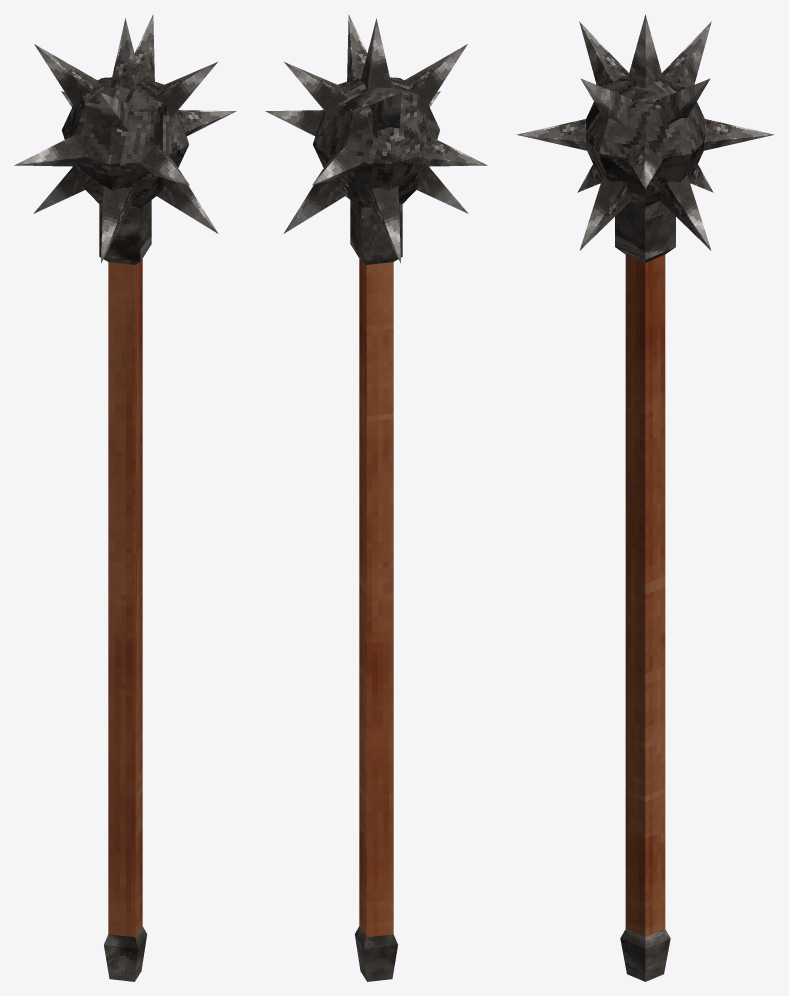
File: ps1_-_morning_star.glb
3 views of the same model, side by side, from view 1: azimuth 30°, elevation 25°; view 2: azimuth 150°, elevation 25°; view 3: azimuth 270°, elevation 25° (orthographic).
Visible parts, largest first — view 1: mace_morning_star_a__0; view 2: mace_morning_star_a__0; view 3: mace_morning_star_a__0.
Boxes of the visible parts, box(x1,y1,x2,y2) form: mace_morning_star_a__0: box(14, 14, 236, 981); mace_morning_star_a__0: box(265, 14, 487, 981); mace_morning_star_a__0: box(516, 14, 774, 981).
Size of the model in its own units: 0.2474 by 1.02 by 0.2483.
Materials: 1 (1 with a texture image).
